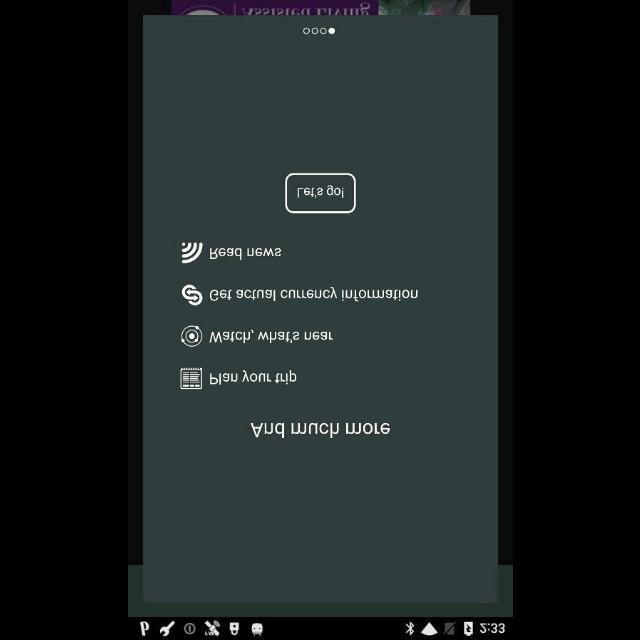icon: (179, 366, 203, 389)
image: (181, 324, 203, 346), (181, 283, 203, 305), (181, 242, 203, 264)
pageindicator: (302, 28, 336, 34)
text: (209, 286, 417, 302), (250, 422, 390, 438), (209, 329, 333, 343), (210, 369, 296, 385), (209, 248, 281, 260)
textbutton: (284, 173, 356, 213)
uppertaskbar: (128, 617, 512, 639)
